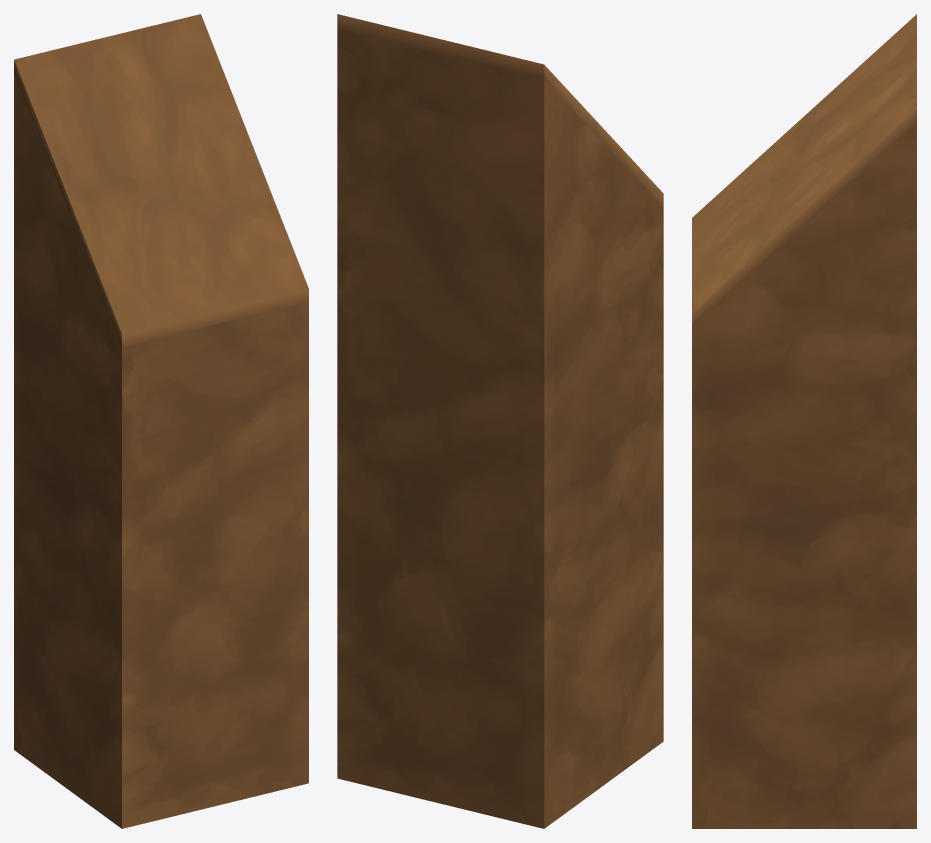
File: Tile_Ramp2A.fbx
3 renders of one model, left to right at view 1: azimuth 30°, elevation 25°; view 2: azimuth 150°, elevation 25°; view 3: azimuth 270°, elevation 25°, orthographic. The views are drawn at different scales.
Parts seen in each view (by area): view 1: polySurface1877; view 2: polySurface1877; view 3: polySurface1877.
Boxes of the visible parts, x1,y1,x2,y2 form: polySurface1877: [14, 14, 308, 828]; polySurface1877: [337, 14, 663, 828]; polySurface1877: [692, 14, 916, 828].
Size of the model in its own units: 200 by 706 by 200.
1 material, 1 textured.
